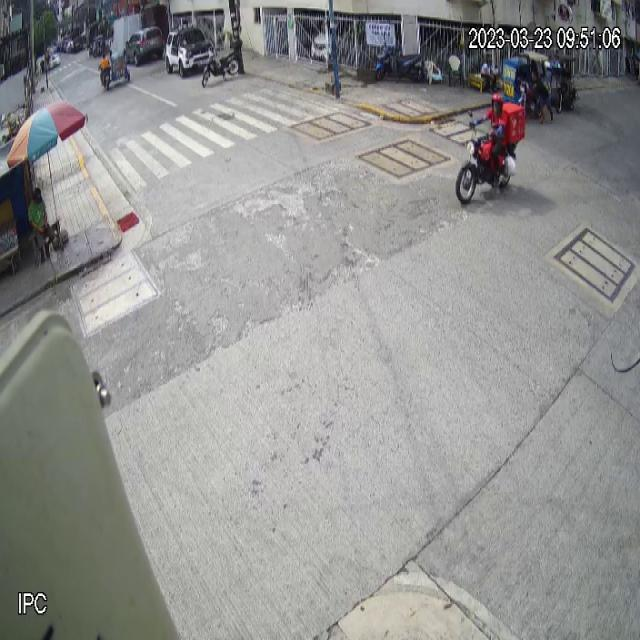Motorcycle: (455, 107, 517, 206), (201, 38, 243, 88), (374, 46, 424, 82)
